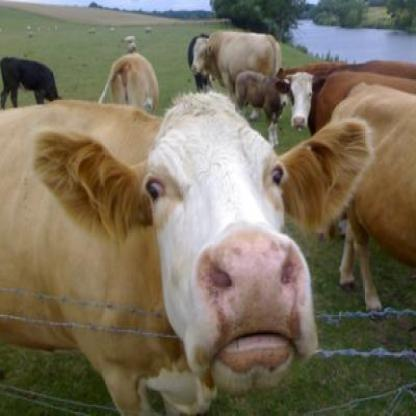lower: (221, 344, 294, 387)
mouth: (194, 232, 318, 393)
upper: (201, 250, 302, 328)
